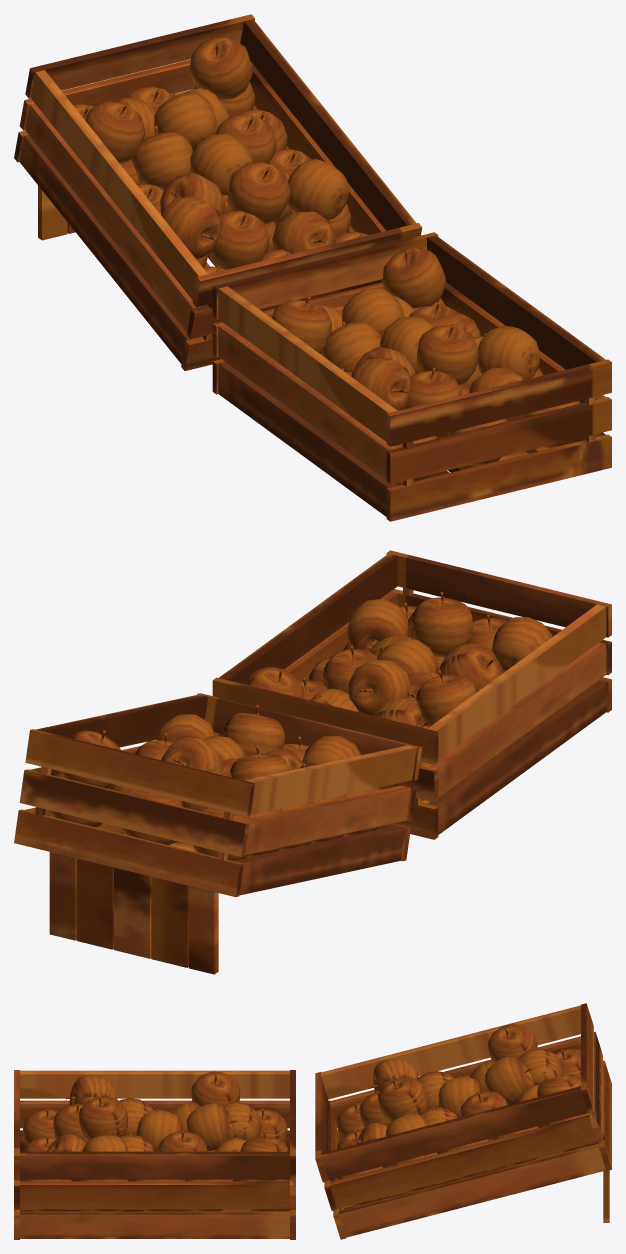
The model's file is fruit crate_2.fbx.
3 renders of one model, top to bottom at view 1: azimuth 30°, elevation 25°; view 2: azimuth 150°, elevation 25°; view 3: azimuth 270°, elevation 25°, orthographic. The views are drawn at different scales.
Visible parts, largest first — view 1: Cube.074, Cube.017, Plane.601, Plane.603, Plane.835, Plane.605, Plane.837, Plane.596, Plane.594, Plane.607, Plane.839, Plane.606 (+14 smaller); view 2: Cube.017, Cube.074, Cube.004, Plane.837, Plane.838, Plane.839, Plane.841, Plane.840, Plane.603, Plane.829, Plane.836, Plane.604 (+11 smaller); view 3: Cube.017, Cube.074, Plane.837, Plane.603, Plane.604, Plane.838, Plane.840, Plane.606, Plane.836, Plane.602, Plane.593, Plane.841 (+24 smaller).
Part boxes in pixels (x1=…): Cube.074: x1=212, y1=232, x2=611, y2=521; Cube.017: x1=14, y1=14, x2=422, y2=370; Plane.601: x1=190, y1=36, x2=252, y2=100; Plane.603: x1=227, y1=161, x2=290, y2=224; Plane.835: x1=382, y1=247, x2=446, y2=308; Plane.605: x1=287, y1=159, x2=348, y2=220; Plane.837: x1=417, y1=324, x2=478, y2=385; Plane.596: x1=208, y1=210, x2=269, y2=269; Plane.594: x1=131, y1=126, x2=192, y2=190; Plane.607: x1=161, y1=196, x2=221, y2=259; Plane.839: x1=477, y1=326, x2=539, y2=379; Plane.606: x1=85, y1=101, x2=145, y2=163; Cube.017: x1=14, y1=693, x2=422, y2=897; Cube.074: x1=212, y1=550, x2=611, y2=839; Cube.004: x1=49, y1=852, x2=218, y2=974; Plane.837: x1=411, y1=591, x2=472, y2=657; Plane.838: x1=348, y1=659, x2=411, y2=715; Plane.839: x1=346, y1=599, x2=408, y2=651; Plane.841: x1=491, y1=617, x2=552, y2=672; Plane.840: x1=416, y1=670, x2=476, y2=727; Plane.603: x1=223, y1=705, x2=284, y2=755; Plane.829: x1=439, y1=643, x2=502, y2=691; Plane.836: x1=377, y1=638, x2=437, y2=676; Plane.604: x1=161, y1=737, x2=223, y2=770; Cube.017: x1=315, y1=1003, x2=611, y2=1239; Cube.074: x1=14, y1=1070, x2=295, y2=1239; Plane.837: x1=78, y1=1096, x2=127, y2=1140; Plane.603: x1=378, y1=1076, x2=428, y2=1122; Plane.604: x1=484, y1=1056, x2=534, y2=1104; Plane.838: x1=186, y1=1103, x2=237, y2=1150; Plane.840: x1=191, y1=1071, x2=240, y2=1106; Plane.606: x1=487, y1=1024, x2=537, y2=1061; Plane.836: x1=136, y1=1111, x2=181, y2=1151; Plane.602: x1=438, y1=1077, x2=481, y2=1117; Plane.593: x1=519, y1=1048, x2=563, y2=1084; Plane.841: x1=65, y1=1075, x2=116, y2=1104.
Size of the model in its own units: 26.86 by 21.97 by 78.99.
